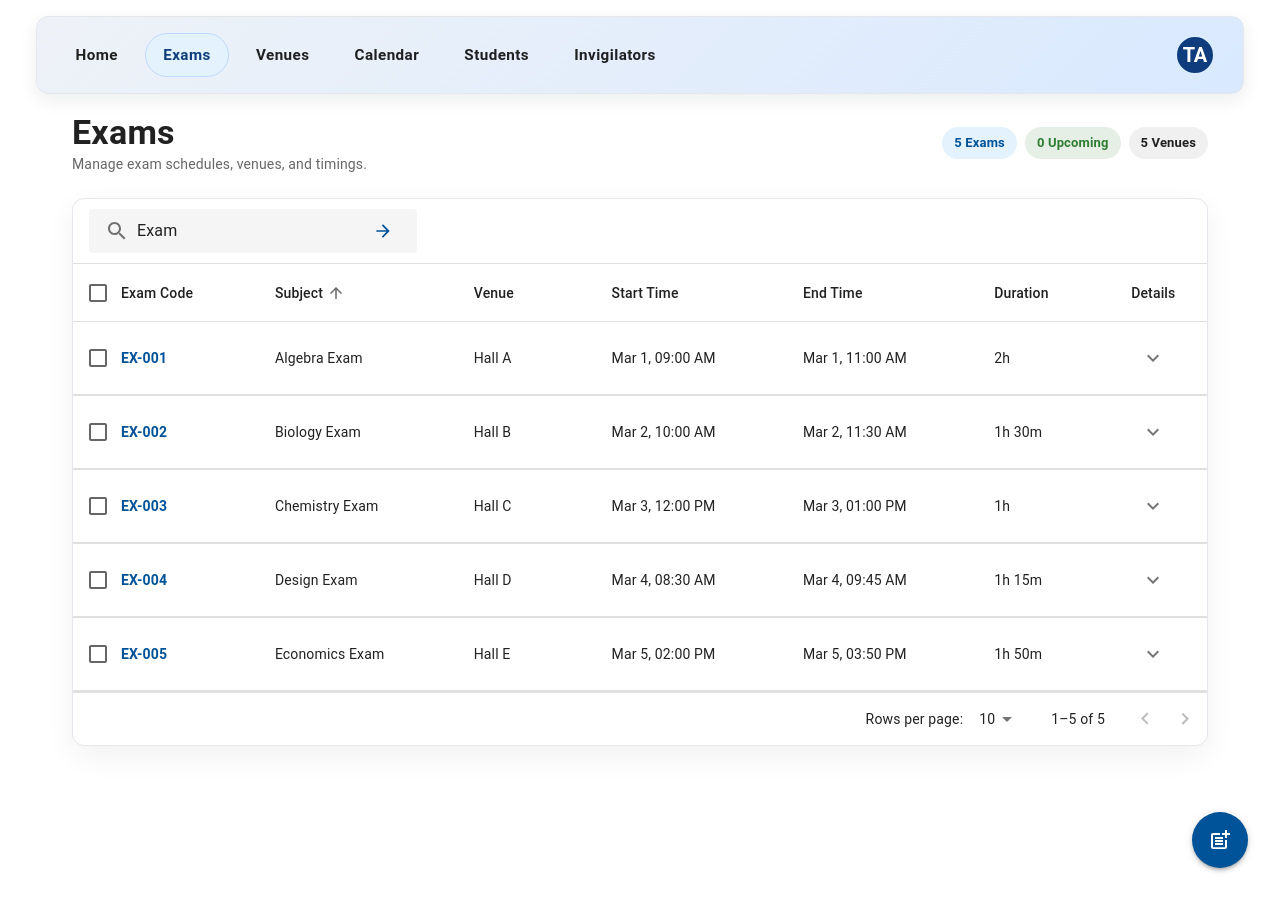
Scenario: Admin table preference persistence › keeps exam sorting and search after visiting venues and returning
Expected: the text "Algebra Exam" is shown, x1=259 y1=322 x2=458 y2=395
// Navigate away to Venues
Click the link "Venues".
click(283, 55)  # box x1=256 y1=46 x2=310 y2=64
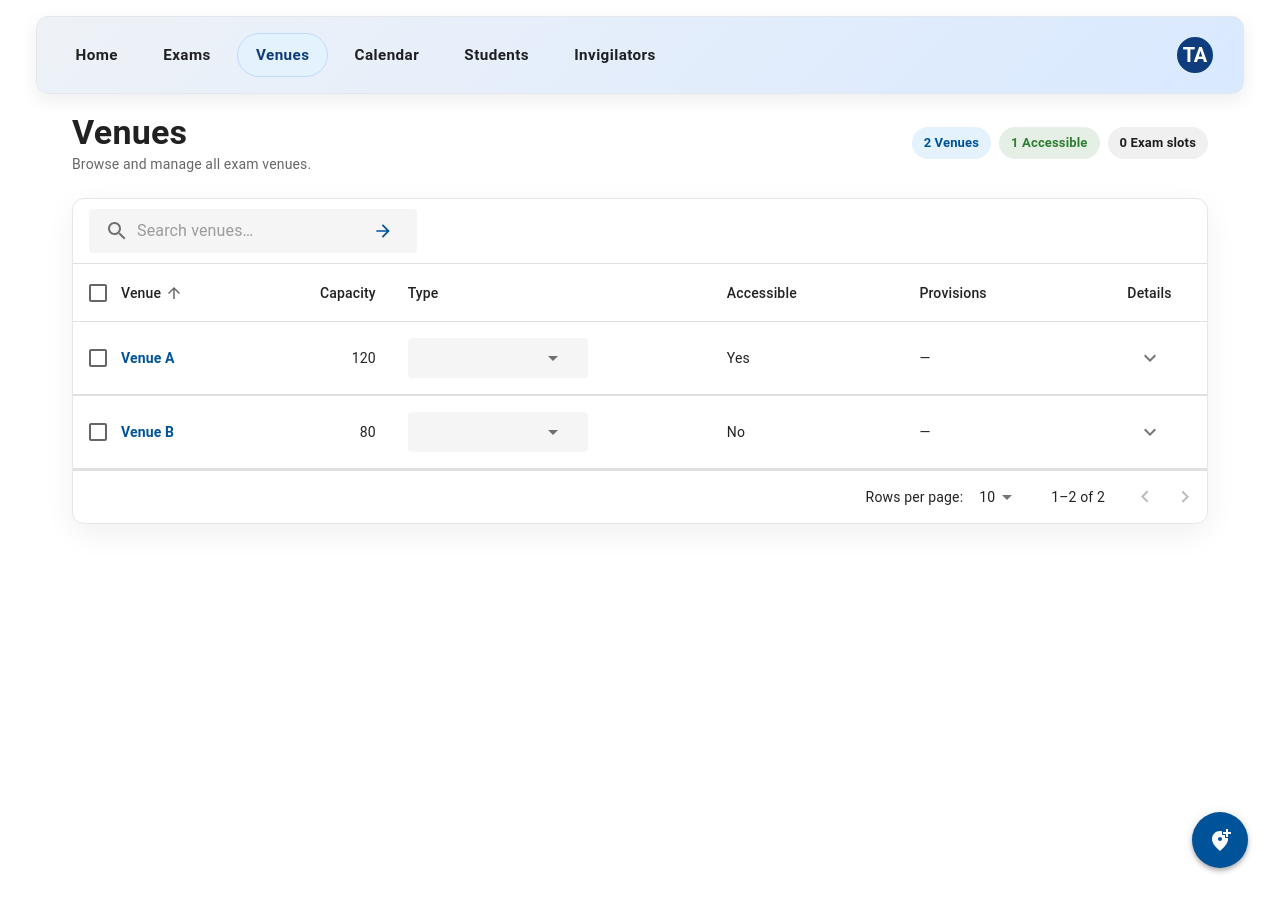
Result: the link "Venue A" is shown at x1=121 y1=350 x2=175 y2=366
// Return to Exams
Click the link "Exams".
click(187, 55)  # box x1=163 y1=46 x2=211 y2=64
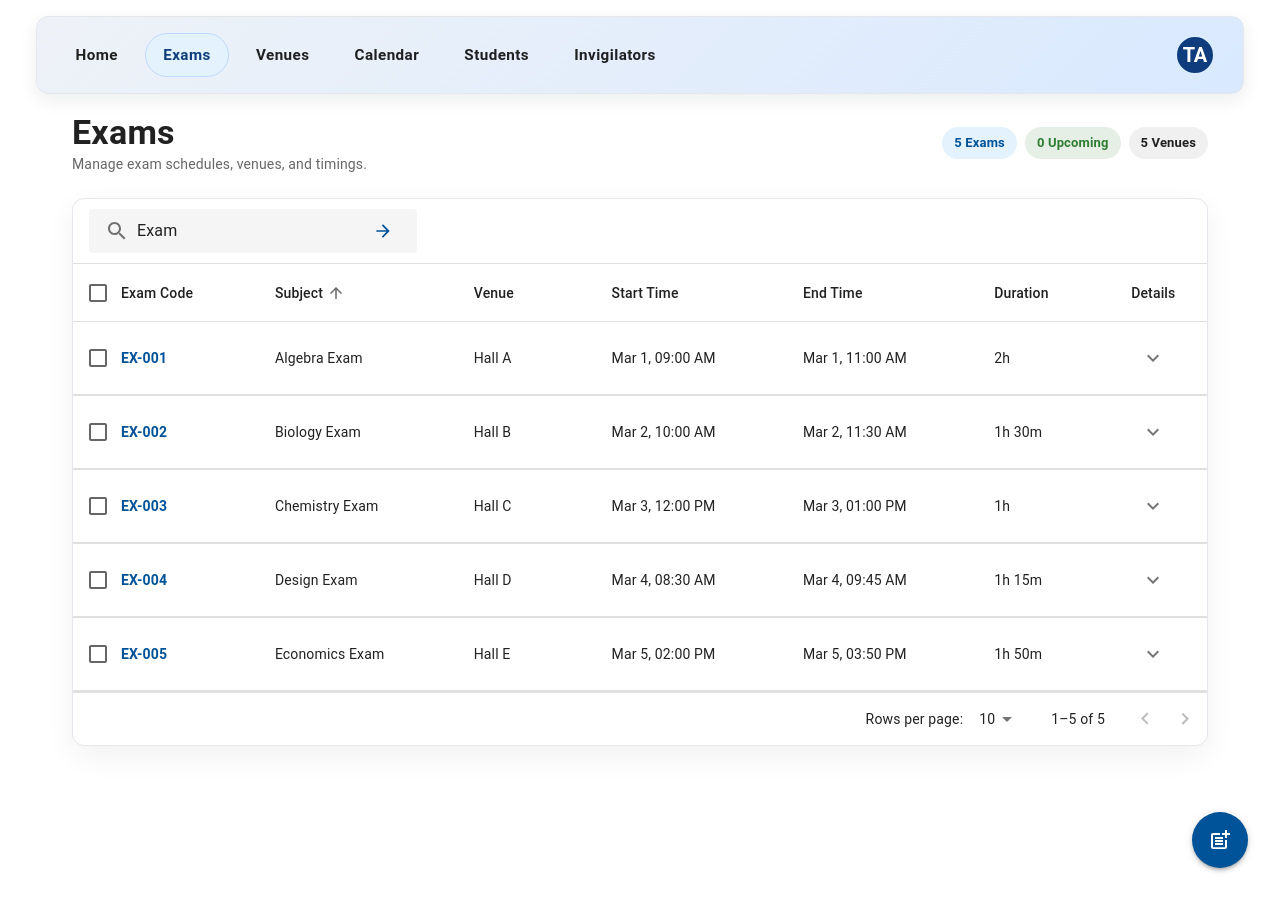
Result: the text "Algebra Exam" is shown at x1=259 y1=322 x2=458 y2=395
Result: the field with placeholder "Search exams..." holds "Exam" at x1=137 y1=215 x2=357 y2=247
